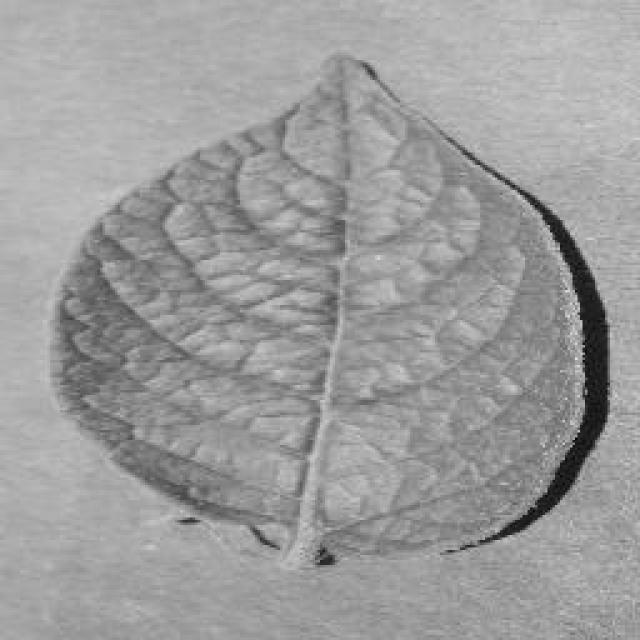Potato: (45, 48, 607, 570)
